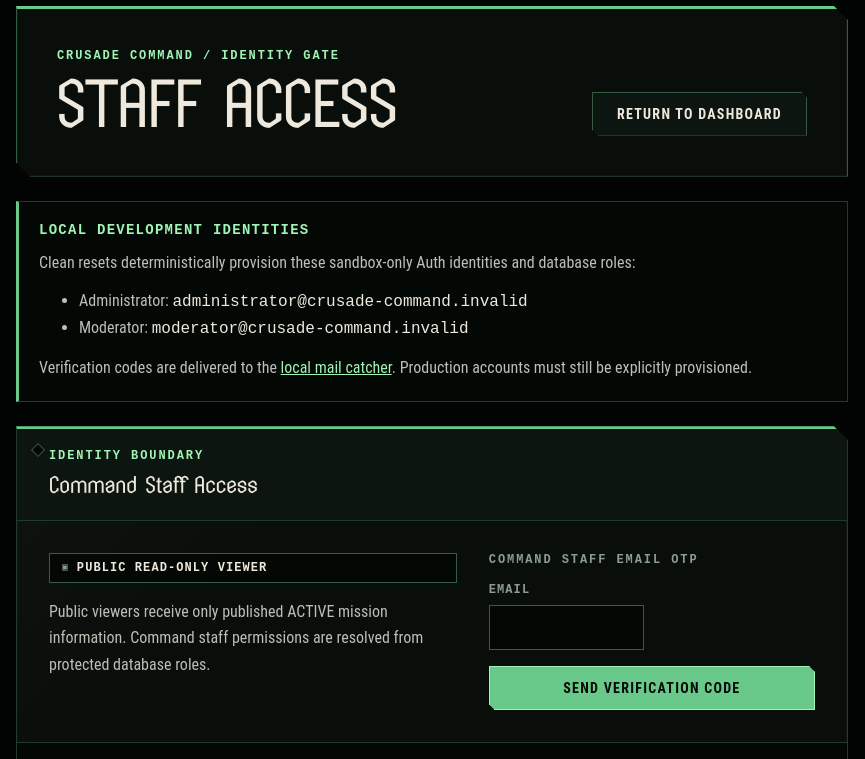
Scenario: StaffLoginRoute › explains when a local email is not provisioned without exposing provider details
Type "unknown@example.test" into the field labelled "Email".
click(566, 628); type("unknown@example.test")  # box [489, 605, 644, 650]
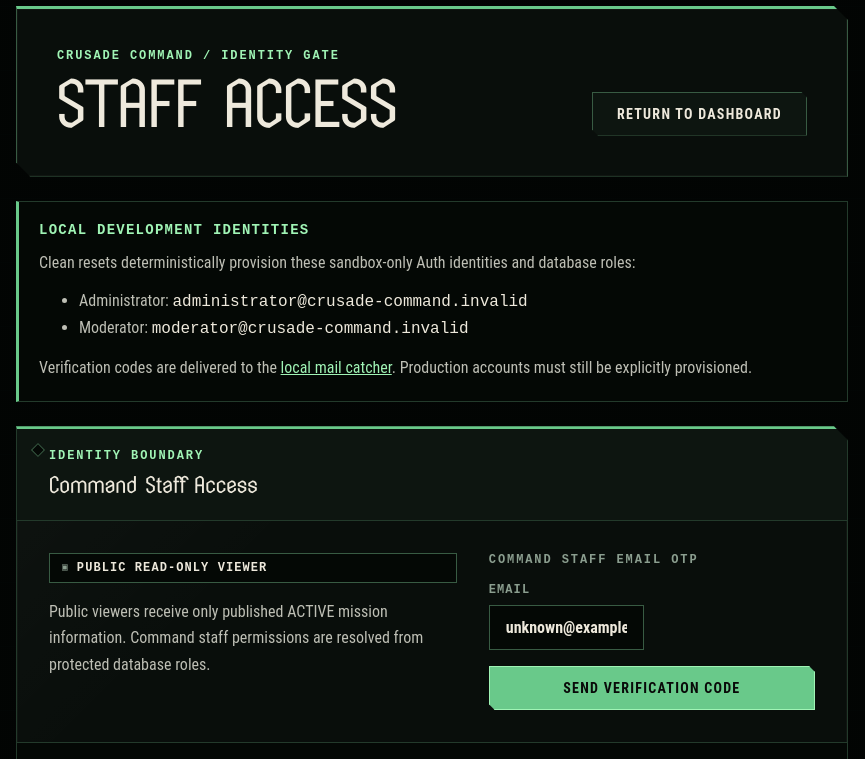
Click the button "Send verification code".
click(652, 688)  # box [489, 666, 815, 710]
(page scrolled)
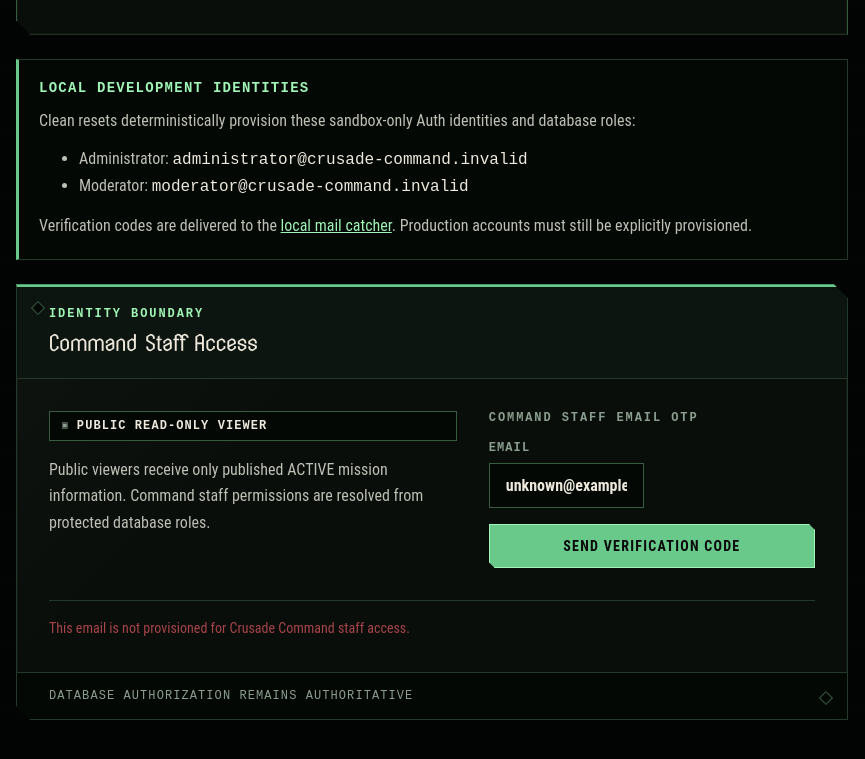
Now the message reads "This email is not provisioned for Crusade Command staff access.", box [49, 620, 410, 636]
